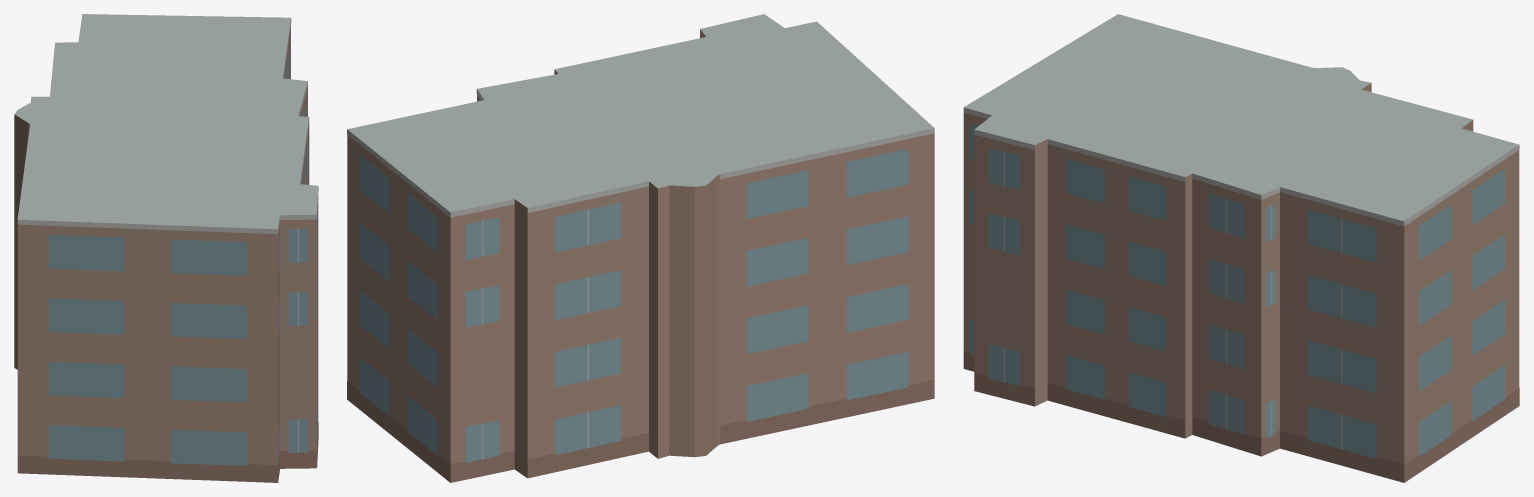
The model's file is survey-upis-32813556.glb.
The picture shows the model from 3 angles, left to right: view 1: azimuth 30°, elevation 25°; view 2: azimuth 150°, elevation 25°; view 3: azimuth 270°, elevation 25°; orthographic projection. The views are drawn at different scales.
Visible parts, largest first — view 1: survey-upis-32813556.tmp; view 2: survey-upis-32813556.tmp; view 3: survey-upis-32813556.tmp.
Boxes of the visible parts, <box> form: survey-upis-32813556.tmp: <box>14,14,318,482</box>; survey-upis-32813556.tmp: <box>347,14,934,482</box>; survey-upis-32813556.tmp: <box>963,14,1519,482</box>.
Bounding box in the file's own units: 21.62 × 12.7 × 24.48.
